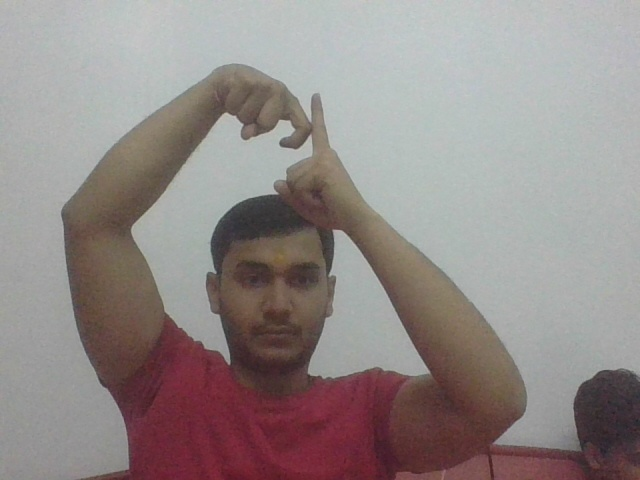K: (266, 80, 345, 174)
